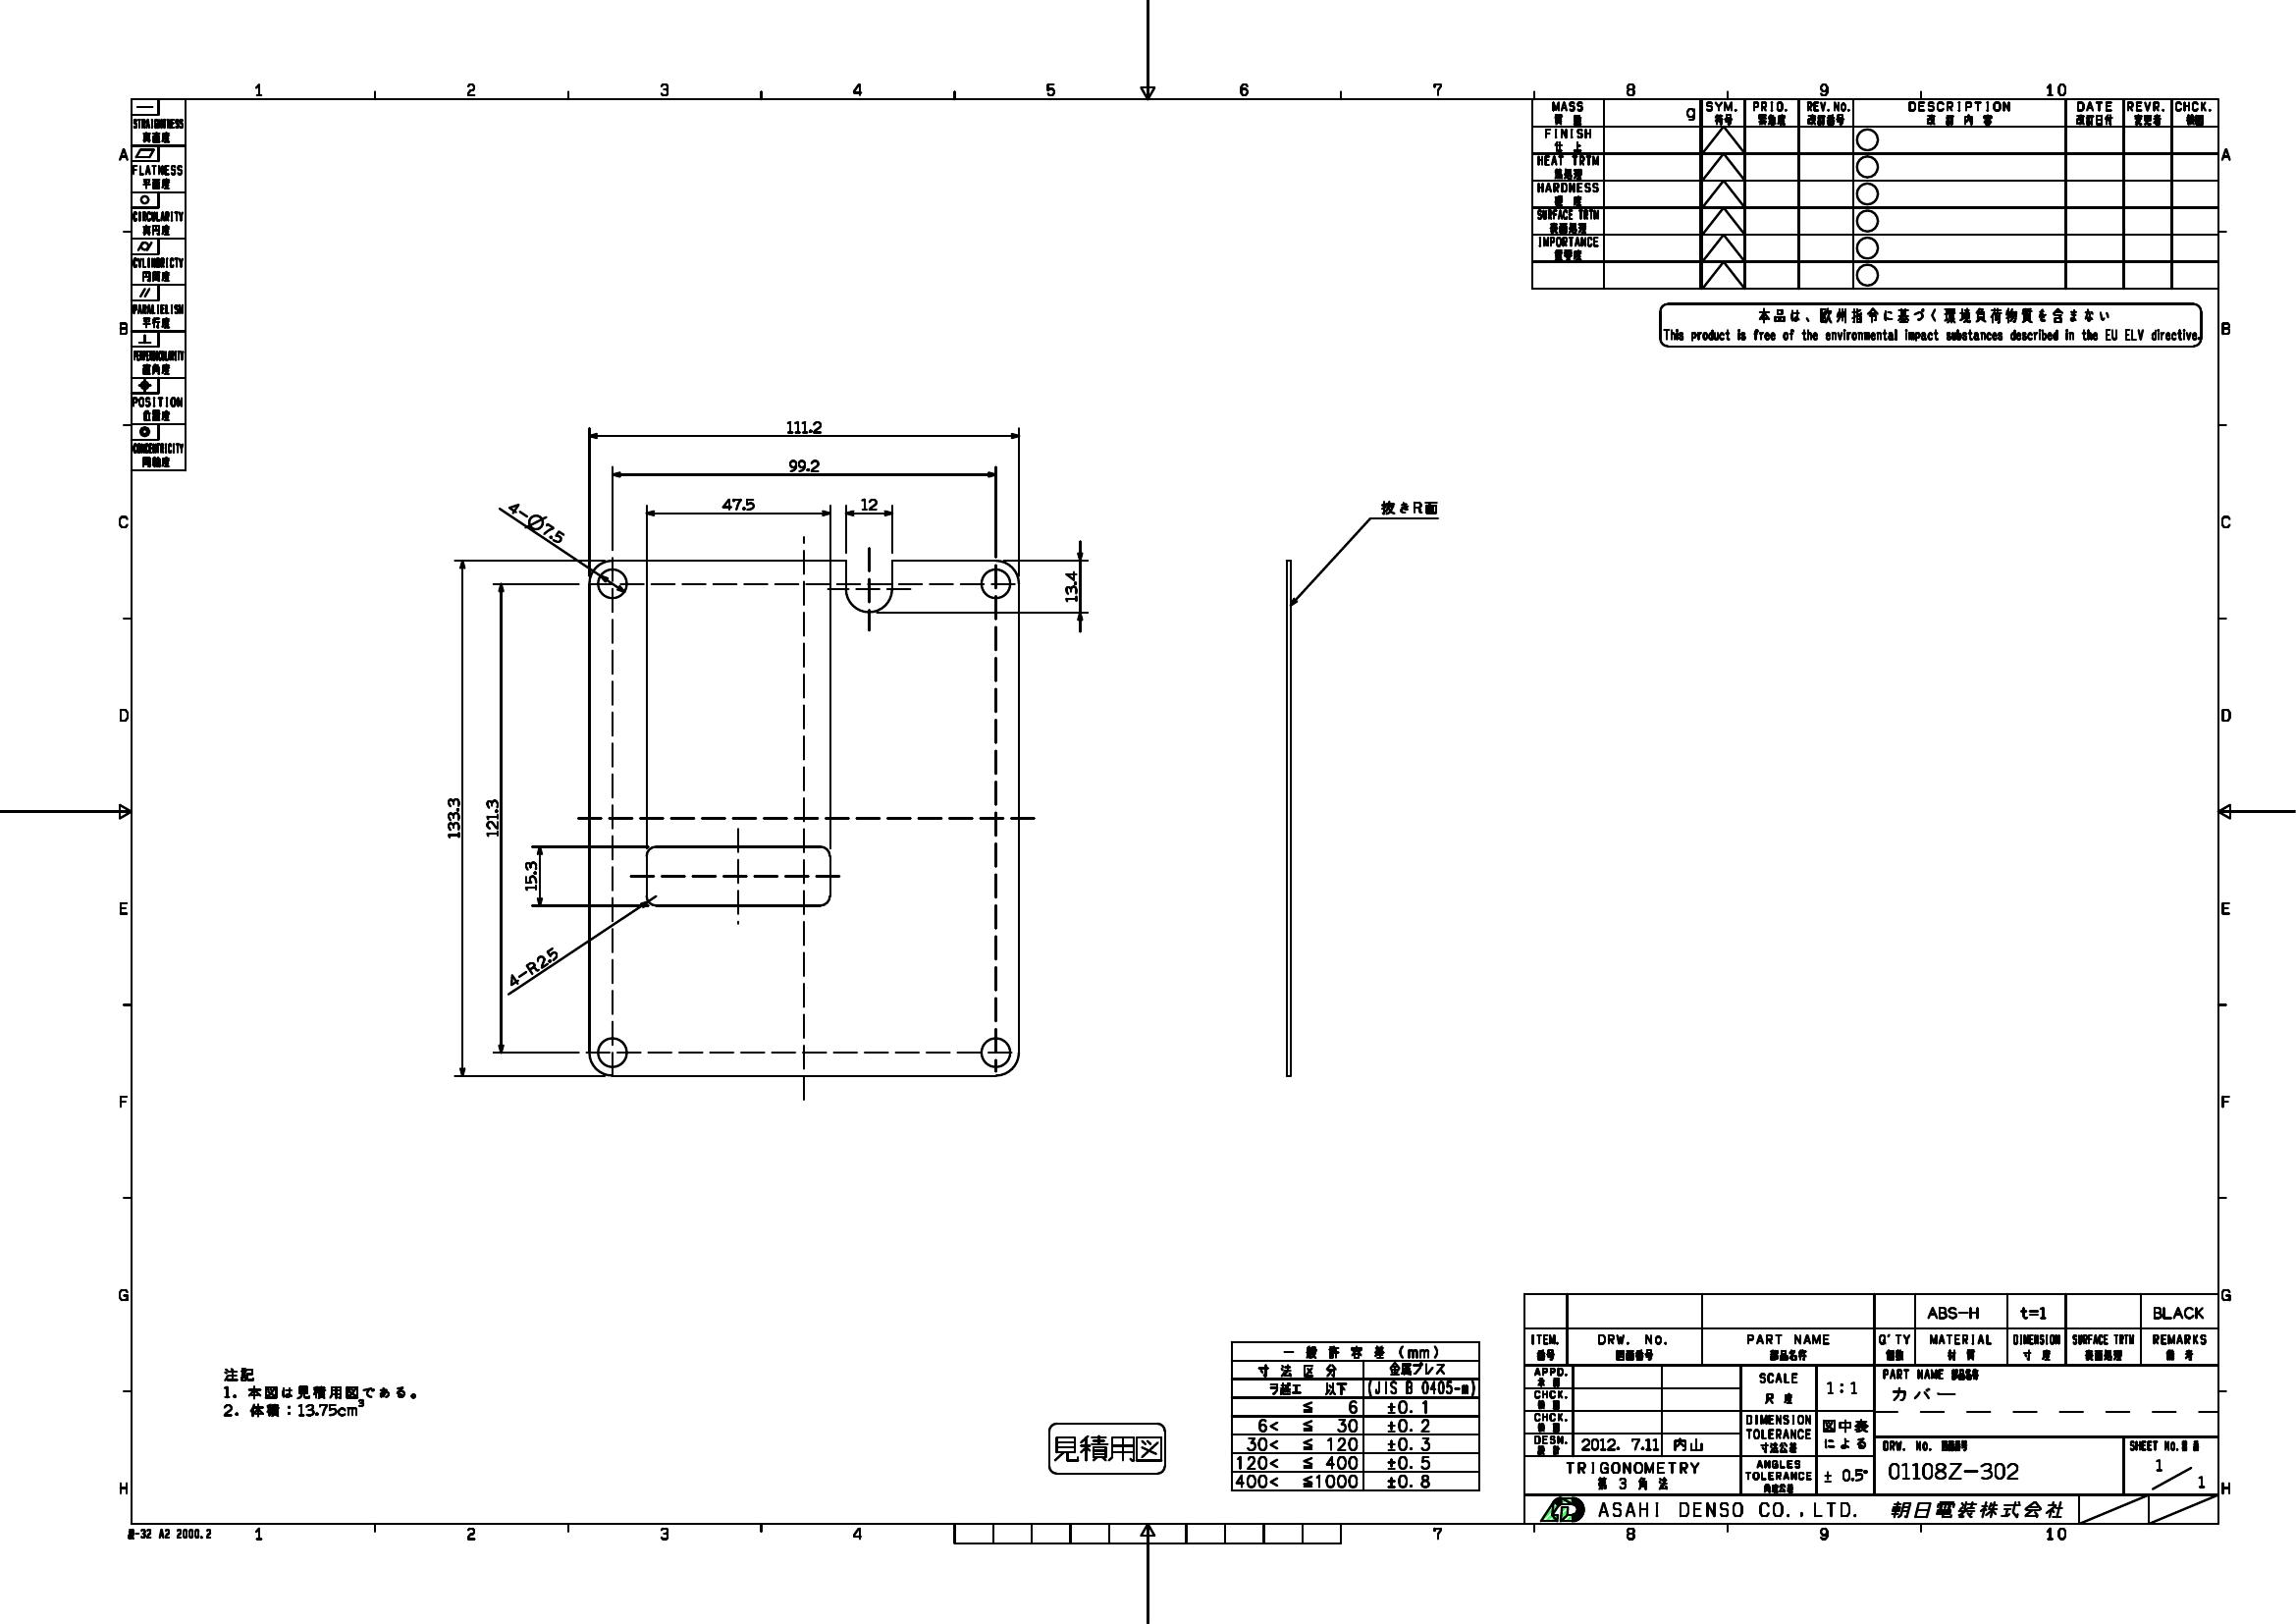anntotation_text: (1660, 302, 2201, 348), (216, 1359, 420, 1422), (1047, 1420, 1165, 1476), (1370, 496, 1448, 517), (126, 1526, 214, 1541)
dimension_text: (502, 515, 578, 531), (499, 956, 567, 972), (443, 786, 460, 840), (780, 417, 829, 434), (783, 453, 826, 473), (717, 496, 762, 511), (1059, 568, 1079, 605), (483, 796, 499, 840), (520, 858, 538, 891), (857, 496, 878, 511)
object: (588, 559, 1017, 1077), (1288, 559, 1291, 1074)
title_block: (1372, 107, 2203, 336), (1523, 1294, 2219, 1526), (1230, 1341, 1477, 1492), (130, 95, 186, 471)
